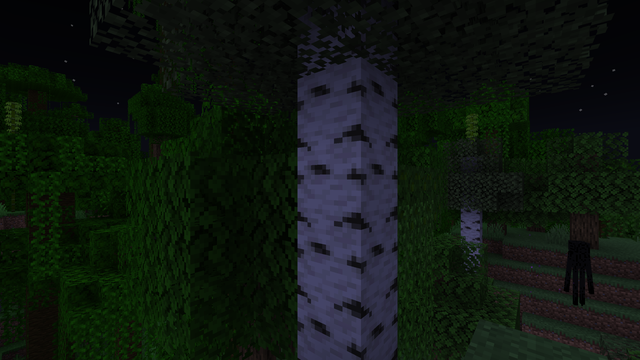endermens: (568, 237, 588, 307)
